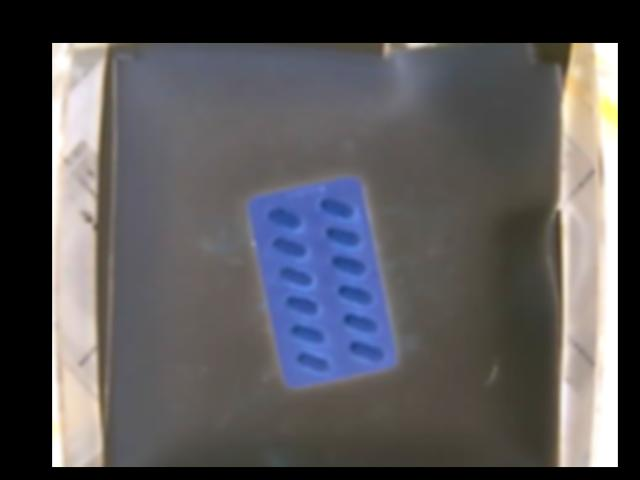Medicine: (244, 174, 398, 385)
